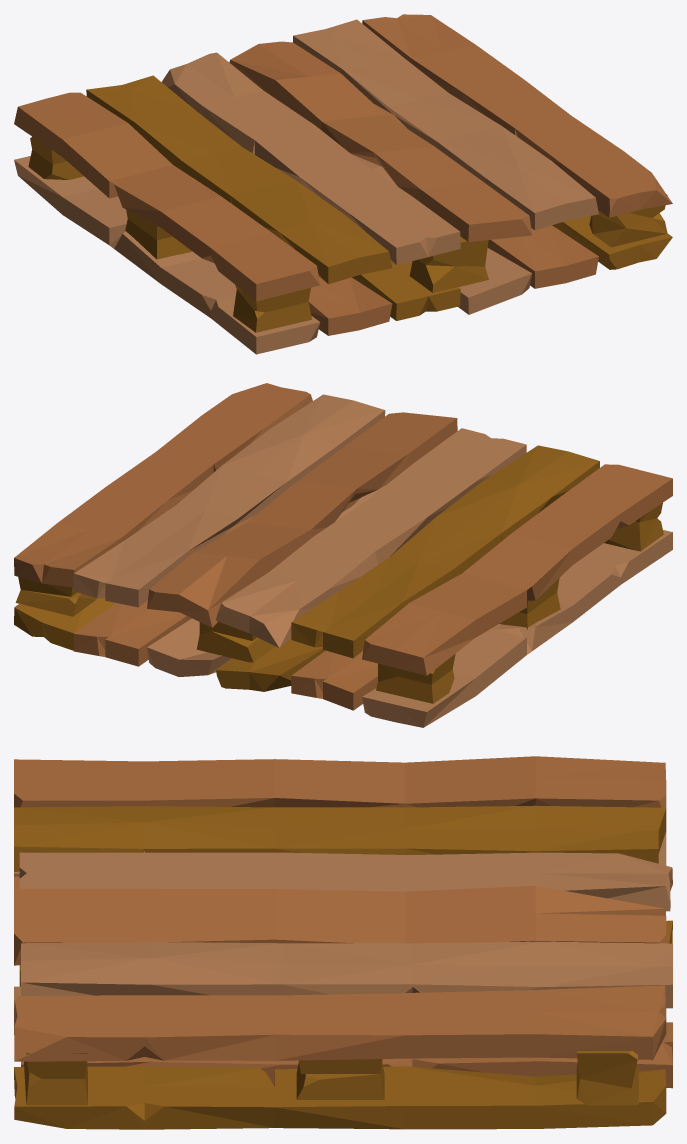
The model's file is Wood Box.fbx.
The picture shows the model from 3 angles, top to bottom: view 1: azimuth 30°, elevation 25°; view 2: azimuth 150°, elevation 25°; view 3: azimuth 270°, elevation 25°; orthographic projection. The views are drawn at different scales.
Visible parts, largest first — view 1: M_Wood Box; view 2: M_Wood Box; view 3: M_Wood Box.
Part boxes in pixels (left/top/right/bottom): M_Wood Box: left=14, top=14, right=672, bottom=354; M_Wood Box: left=14, top=383, right=672, bottom=727; M_Wood Box: left=14, top=756, right=672, bottom=1129.
Bounding box in the file's own units: 0.2503 × 0.0544 × 0.2539.
Materials: 1 (1 with a texture image).
